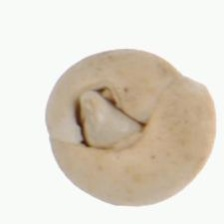L3: (67, 84, 153, 151)
L4: (45, 49, 216, 206)
